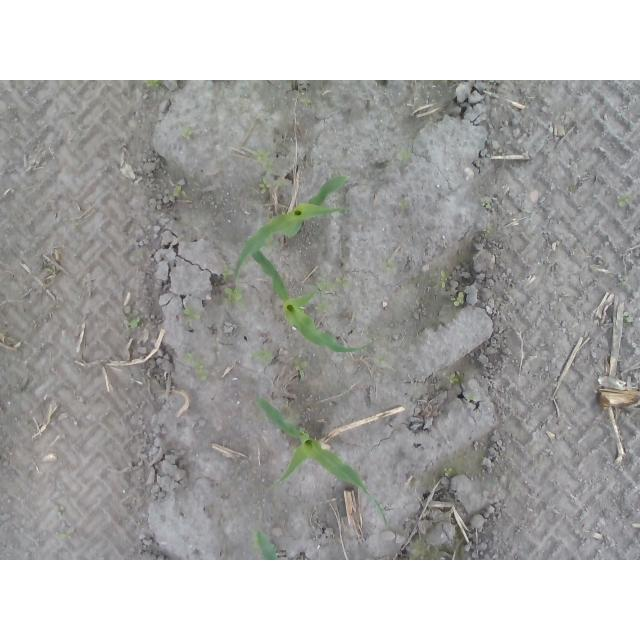Maize: (253, 396, 387, 528), (244, 239, 380, 353), (232, 174, 352, 287), (253, 528, 284, 560)
Weeds: (253, 150, 291, 196), (316, 275, 351, 313), (185, 355, 210, 382), (56, 506, 73, 541), (224, 286, 244, 306), (183, 306, 202, 322), (393, 150, 414, 164), (125, 316, 140, 333), (295, 359, 309, 377), (252, 350, 272, 362), (173, 187, 188, 202), (383, 258, 397, 274), (479, 196, 493, 210), (617, 196, 632, 209), (452, 291, 465, 305), (182, 128, 194, 142), (377, 355, 392, 366), (225, 267, 236, 282), (440, 271, 449, 289), (623, 311, 634, 325), (299, 97, 313, 107), (449, 374, 459, 387), (46, 267, 59, 276), (444, 466, 453, 479), (148, 80, 161, 88), (485, 227, 494, 237), (138, 254, 147, 263), (400, 200, 409, 208)
